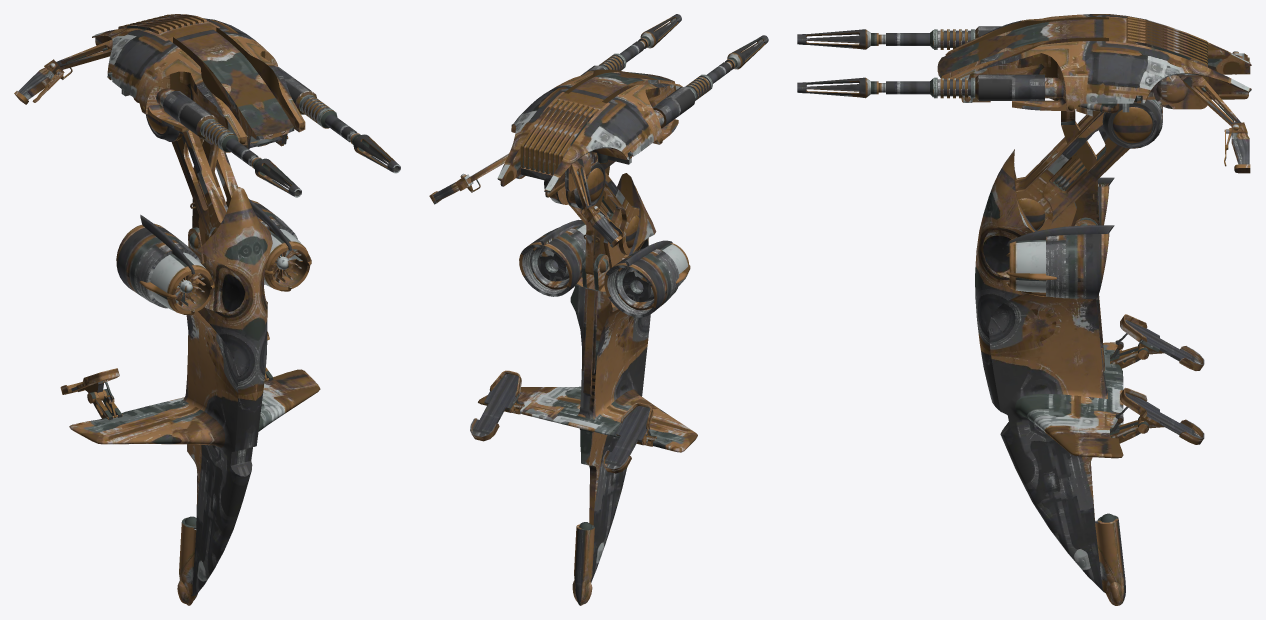
Rendered from stap.glb.
3 views of the same model, side by side, from view 1: azimuth 30°, elevation 25°; view 2: azimuth 150°, elevation 25°; view 3: azimuth 270°, elevation 25° (orthographic). The views are drawn at different scales.
Bounding box in the file's own units: 0.7657 × 1.8 × 1.28.
Materials: 1 (1 with a texture image).
